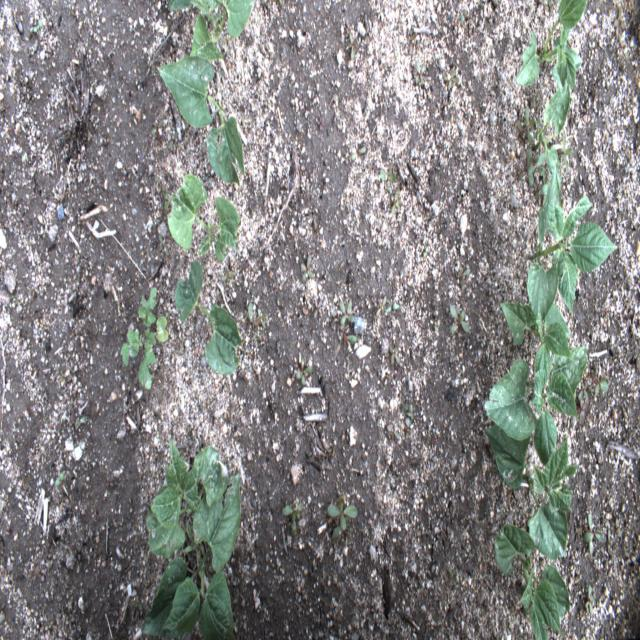crop: (140, 468, 241, 639), (526, 158, 618, 331), (483, 417, 581, 560), (484, 344, 588, 471), (157, 54, 244, 188), (144, 437, 224, 559), (494, 522, 570, 638), (175, 259, 242, 374), (513, 0, 588, 95), (500, 300, 574, 393), (167, 174, 240, 260), (169, 0, 255, 59), (532, 81, 570, 182)
weed: (119, 286, 169, 390), (327, 498, 357, 540), (518, 148, 546, 187), (582, 511, 606, 554), (555, 130, 575, 174), (282, 504, 303, 536), (517, 105, 534, 144), (449, 305, 471, 334), (296, 356, 312, 384), (339, 298, 355, 325), (585, 584, 595, 614)
